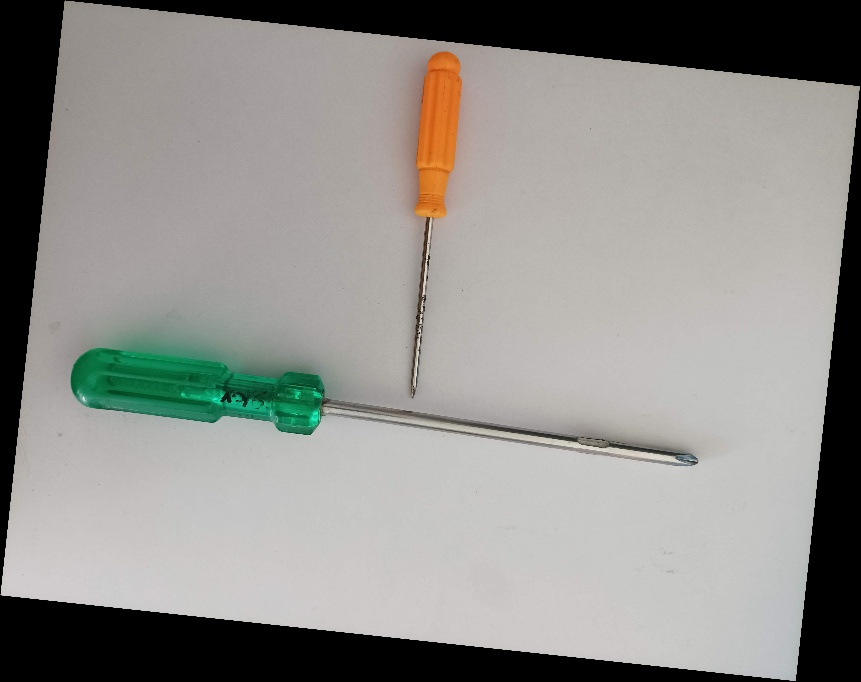screwdriver: (61, 336, 710, 490), (408, 49, 464, 401)
